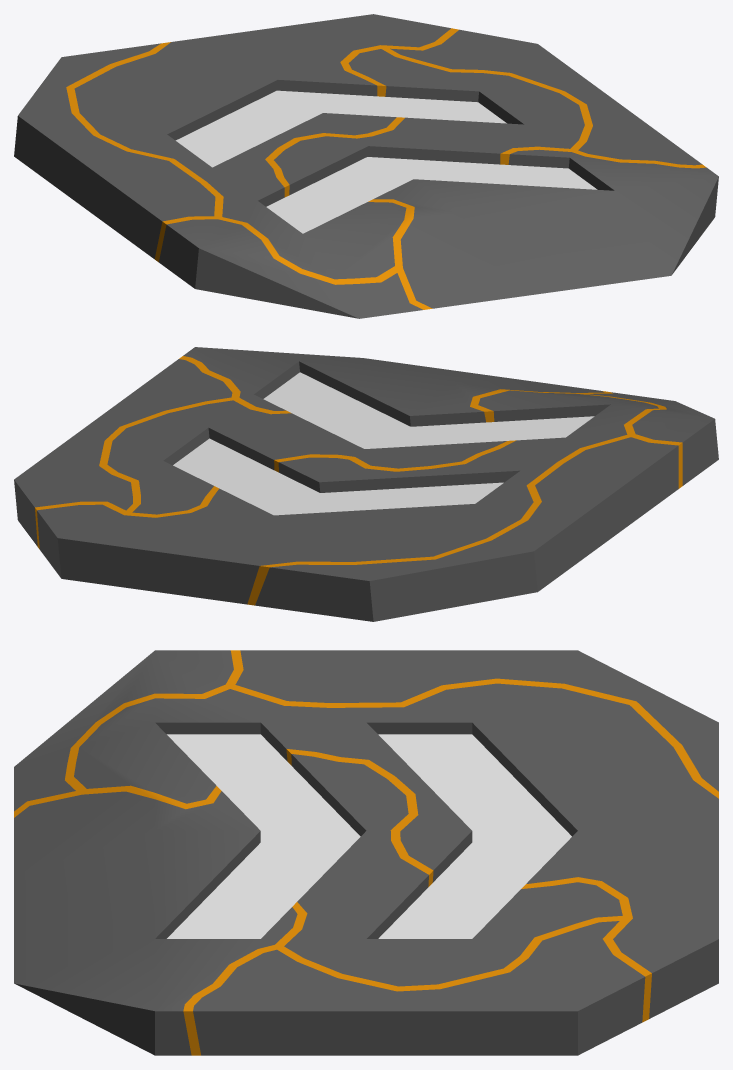
The model's file is Boost_Volcan.fbx.
3 renders of one model, top to bottom at view 1: azimuth 30°, elevation 25°; view 2: azimuth 150°, elevation 25°; view 3: azimuth 270°, elevation 25°, orthographic. The views are drawn at different scales.
Parts seen in each view (by area): view 1: polySurface36; view 2: polySurface36; view 3: polySurface36.
Boxes of the visible parts, x1,y1,x2,y2 form: polySurface36: (14,14,718,318); polySurface36: (14,347,718,621); polySurface36: (14,650,718,1055).
Size of the model in its own units: 0.2368 by 0.041 by 0.2363.
